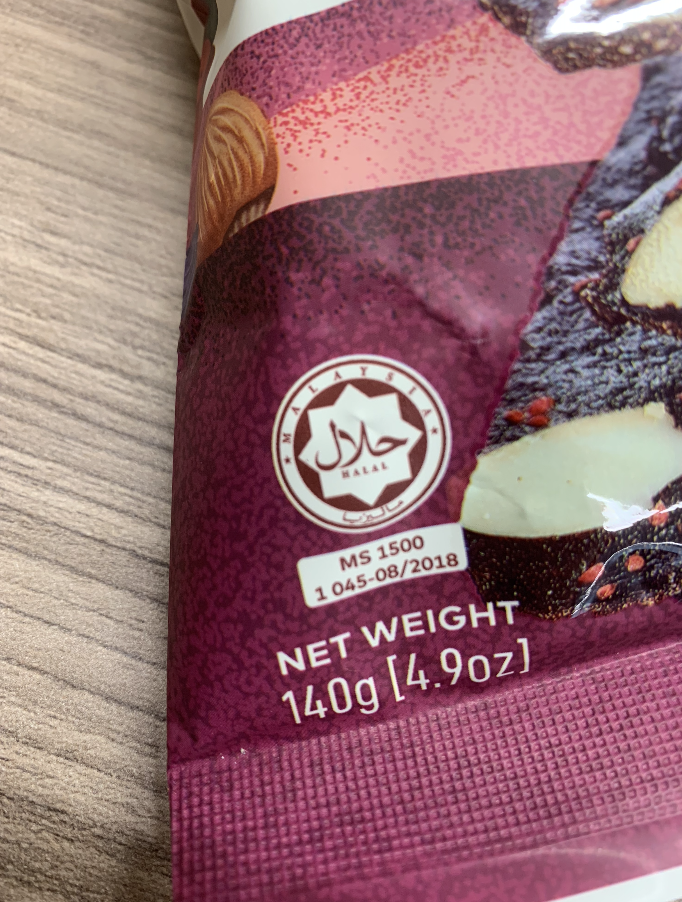halal: (305, 386, 411, 484)
